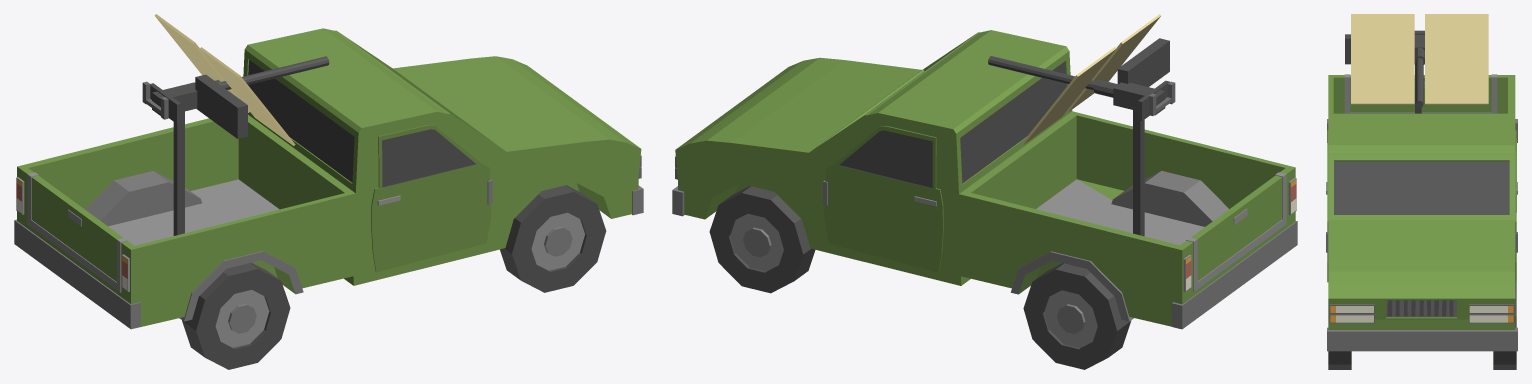
The model's file is kar23.fbx.
3 renders of one model, left to right at view 1: azimuth 30°, elevation 25°; view 2: azimuth 150°, elevation 25°; view 3: azimuth 270°, elevation 25°, orthographic. The views are drawn at different scales.
Parts seen in each view (by area): view 1: Boole, Cylinder_4, Cylinder_3, Cylinder_2; view 2: Boole, Cylinder_4, Cylinder, Cylinder_1; view 3: Boole, Cylinder_4, Cylinder, Cylinder_3.
Boxes of the visible parts, <box> form: Boole: <box>14,28,643,329</box>; Cylinder_4: <box>142,14,329,235</box>; Cylinder_3: <box>500,185,606,292</box>; Cylinder_2: <box>182,262,290,369</box>; Boole: <box>672,30,1297,329</box>; Cylinder_4: <box>988,14,1175,236</box>; Cylinder: <box>709,186,815,293</box>; Cylinder_1: <box>1023,263,1131,369</box>; Boole: <box>1326,74,1517,351</box>; Cylinder_4: <box>1345,14,1488,113</box>; Cylinder: <box>1493,281,1516,369</box>; Cylinder_3: <box>1328,351,1351,369</box>.
Size of the model in its own units: 521 by 269 by 205.
